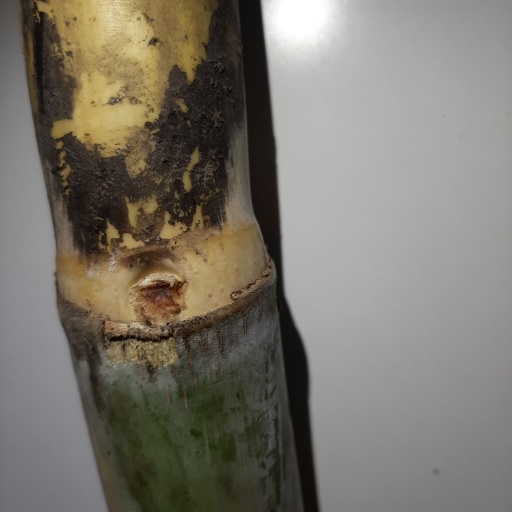Damage_Bud: (136, 266, 186, 322)
